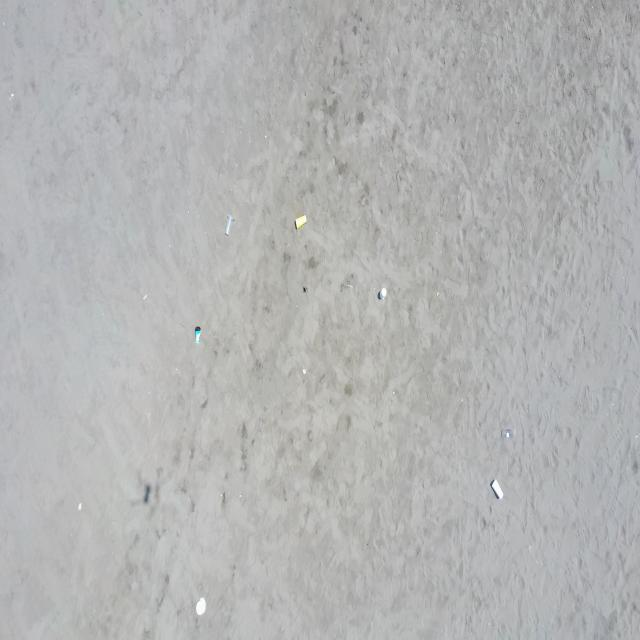take-away-containers: (196, 598, 207, 615)
takeaway-cup: (492, 478, 504, 501), (225, 214, 235, 236), (295, 214, 307, 230), (194, 326, 202, 343), (503, 429, 516, 439), (379, 287, 387, 300)
